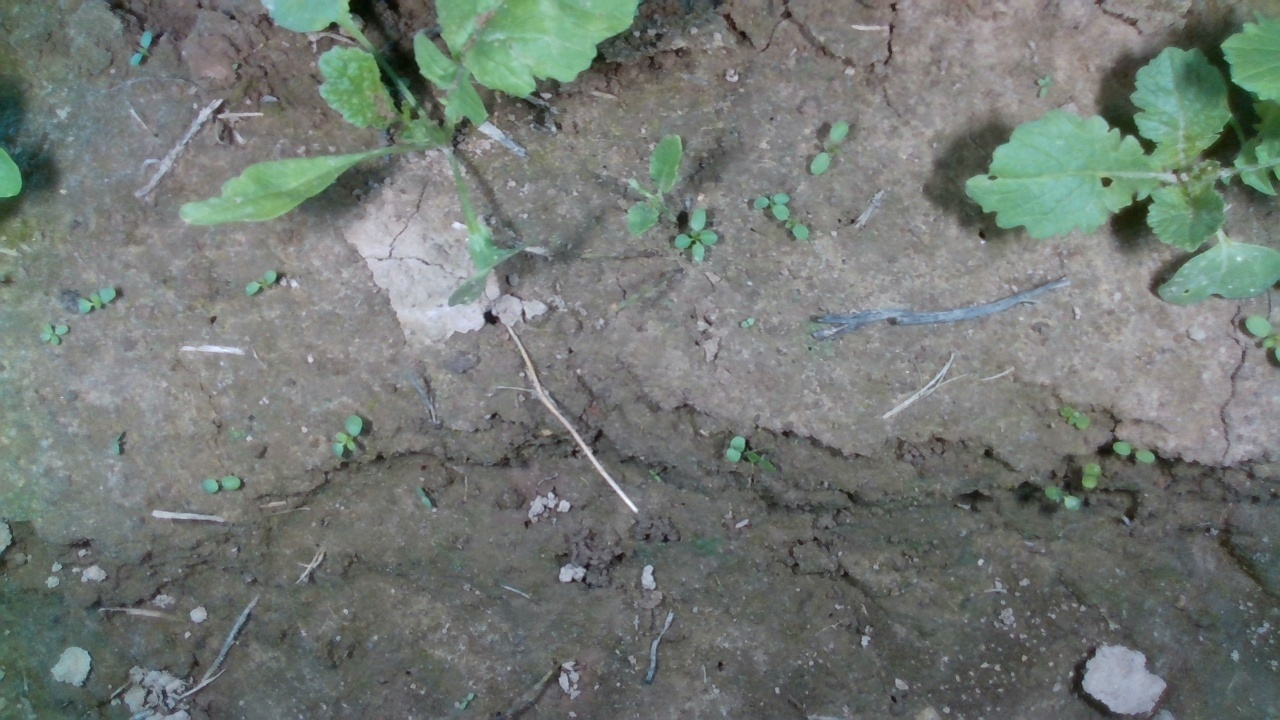weed: (670, 206, 720, 264), (807, 116, 851, 178), (329, 412, 364, 461), (76, 284, 117, 318), (240, 267, 277, 297), (1041, 486, 1082, 513), (1111, 440, 1157, 463), (1057, 402, 1091, 432), (198, 474, 243, 496), (37, 321, 72, 347), (744, 447, 779, 473), (1080, 459, 1102, 490), (723, 435, 746, 464)
